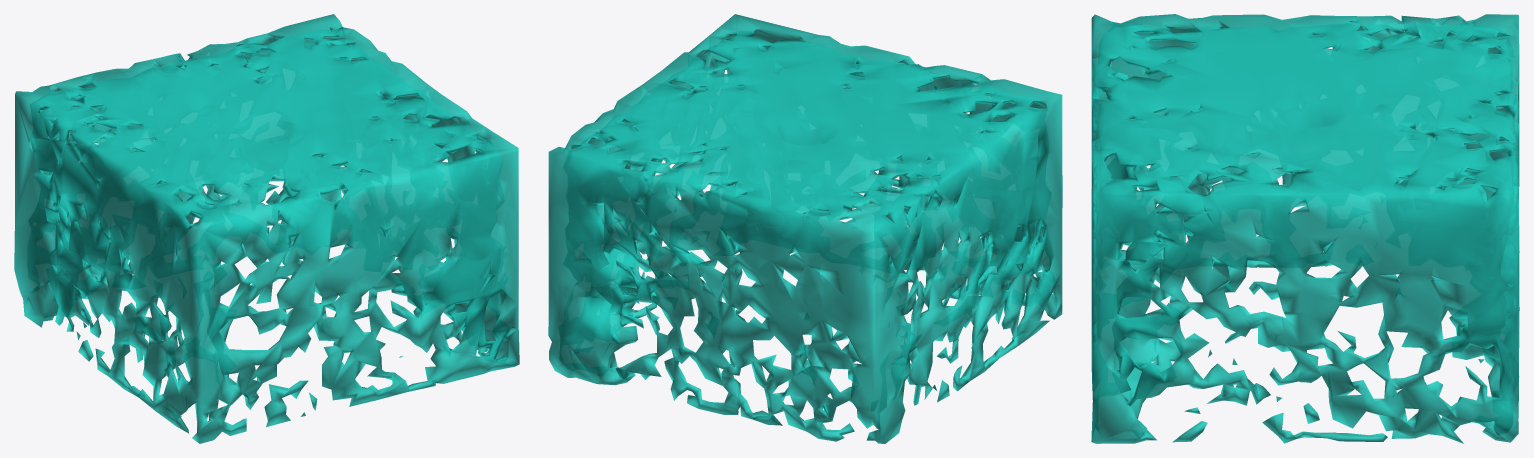
3 views of the same model, side by side, from view 1: azimuth 30°, elevation 25°; view 2: azimuth 150°, elevation 25°; view 3: azimuth 270°, elevation 25° (orthographic). The views are drawn at different scales.
Visible parts, largest first — view 1: Liquid_Domain; view 2: Liquid_Domain; view 3: Liquid_Domain.
Part boxes in pixels (x1,y1,x2,y2): Liquid_Domain: (14, 14, 519, 443); Liquid_Domain: (548, 14, 1062, 443); Liquid_Domain: (1091, 14, 1519, 443).
Size of the model in its own units: 391 by 255 by 392.
